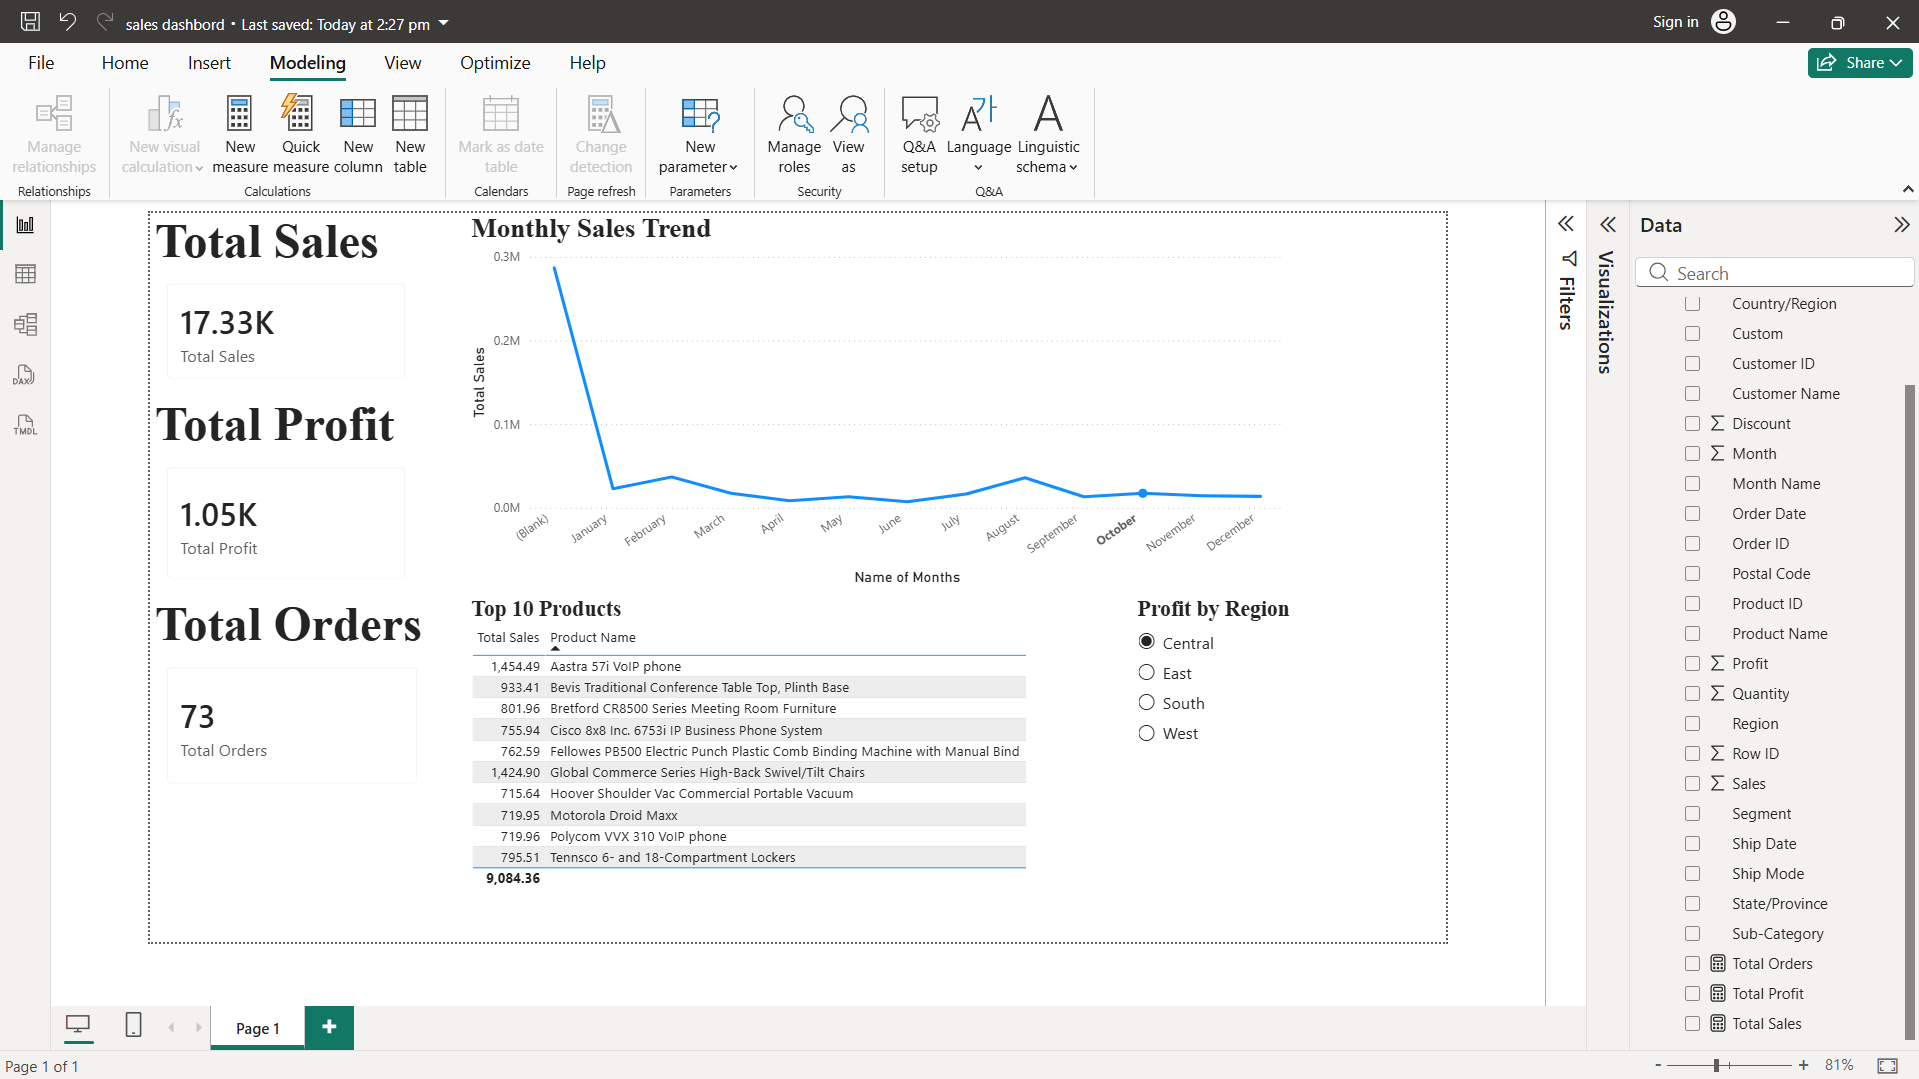

Layout of this report page (visuals, bound fields, positions):
{"tool":"powerbi","page":{"name":"Page 1","canvas":[1280,720],"ordinal":0},"visuals":[{"type":"cardVisual","title":"Total Sales","fields":{"Data":["samplesuperstore.Total Sales"]},"box":[0,0,269.8,181.4],"z":0},{"type":"cardVisual","title":"Total Profit","fields":{"Data":["samplesuperstore.Total Profit"]},"box":[0,181.4,269.8,197.7],"z":1000},{"type":"cardVisual","title":"Total Orders","fields":{"Data":["samplesuperstore.Total Orders"]},"box":[0,379.1,281.4,202.3],"z":2000},{"type":"lineChart","title":"Monthly Sales Trend","fields":{"Y":["samplesuperstore.Total Sales"],"Category":["samplesuperstore.Name of Month"]},"box":[312.1,0,812.9,373.1],"z":3000},{"type":"tableEx","title":"Top 10 Products","fields":{"Values":["samplesuperstore.Total Sales","samplesuperstore.Product Name"]},"box":[312.1,378.8,646.7,341.5],"z":4000},{"type":"listSlicer","title":"Profit by Region","fields":{"Values":["samplesuperstore.Region"]},"box":[970.1,378.8,309.8,341.5],"z":4001}]}

Visuals, with their boxes on the page's 1280x720 design canvas (x1, y1, x2, y2). These are canvas units, not pixel positions in the 1919x1079 screenshot, which may show the page scaled, cropped or inside an application window:
"Total Sales" cardVisual: select_region(0, 0, 270, 181)
"Total Profit" cardVisual: select_region(0, 181, 270, 379)
"Total Orders" cardVisual: select_region(0, 379, 281, 581)
"Monthly Sales Trend" lineChart: select_region(312, 0, 1125, 373)
"Top 10 Products" tableEx: select_region(312, 379, 959, 720)
"Profit by Region" listSlicer: select_region(970, 379, 1280, 720)
